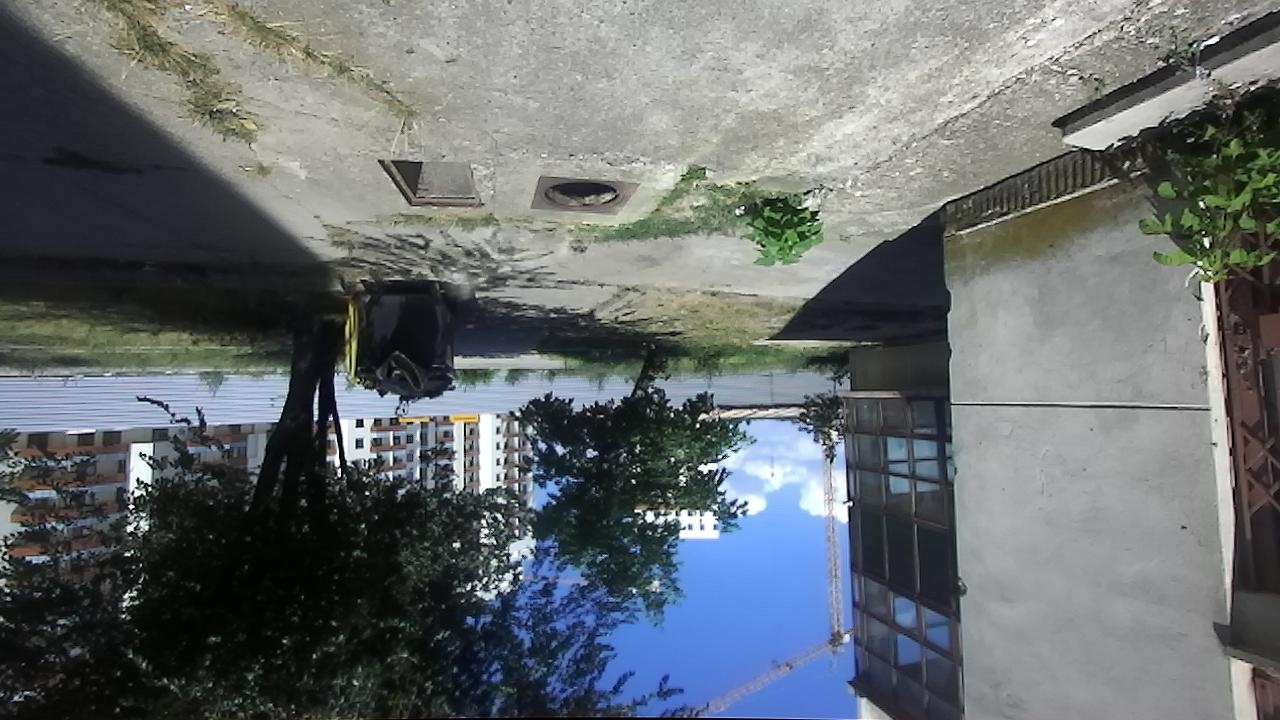drain: (375, 156, 484, 212), (539, 179, 628, 212)
